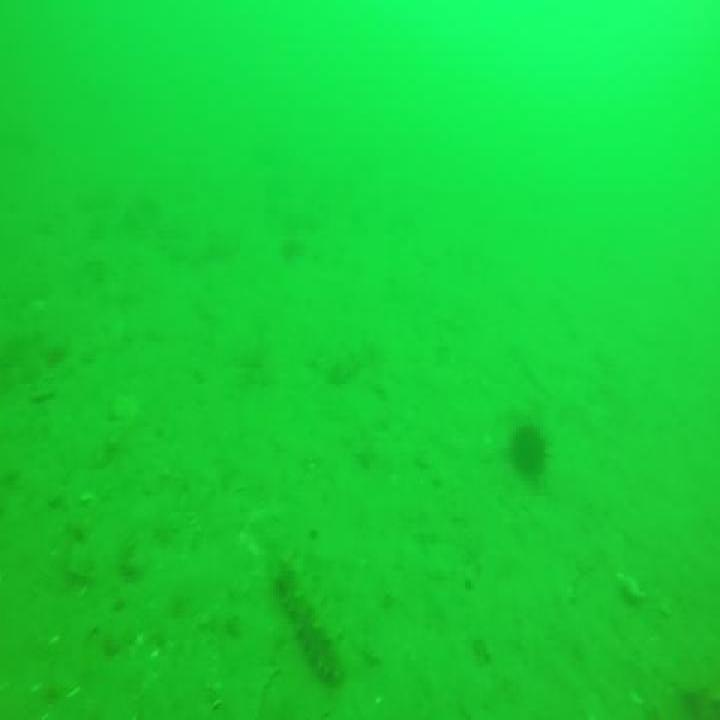echinus: (508, 420, 549, 483)
holothurian: (275, 560, 345, 688)
scallop: (614, 569, 646, 610)
